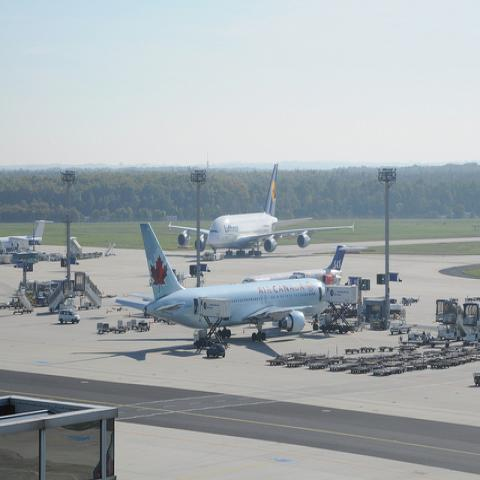car: (390, 319, 418, 335), (58, 311, 80, 324), (206, 344, 226, 358)
